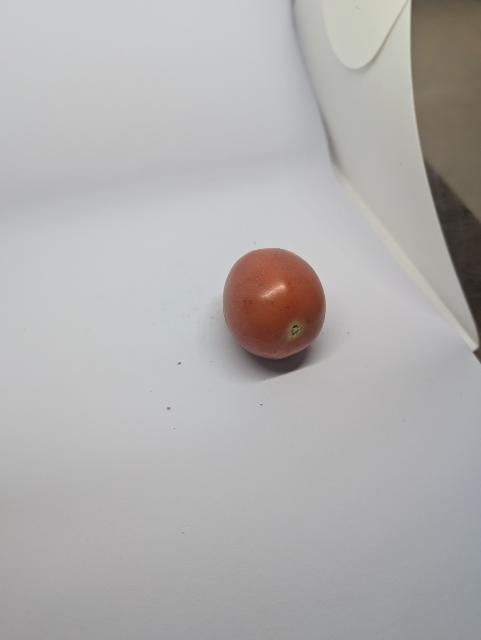red: (219, 244, 330, 371)
